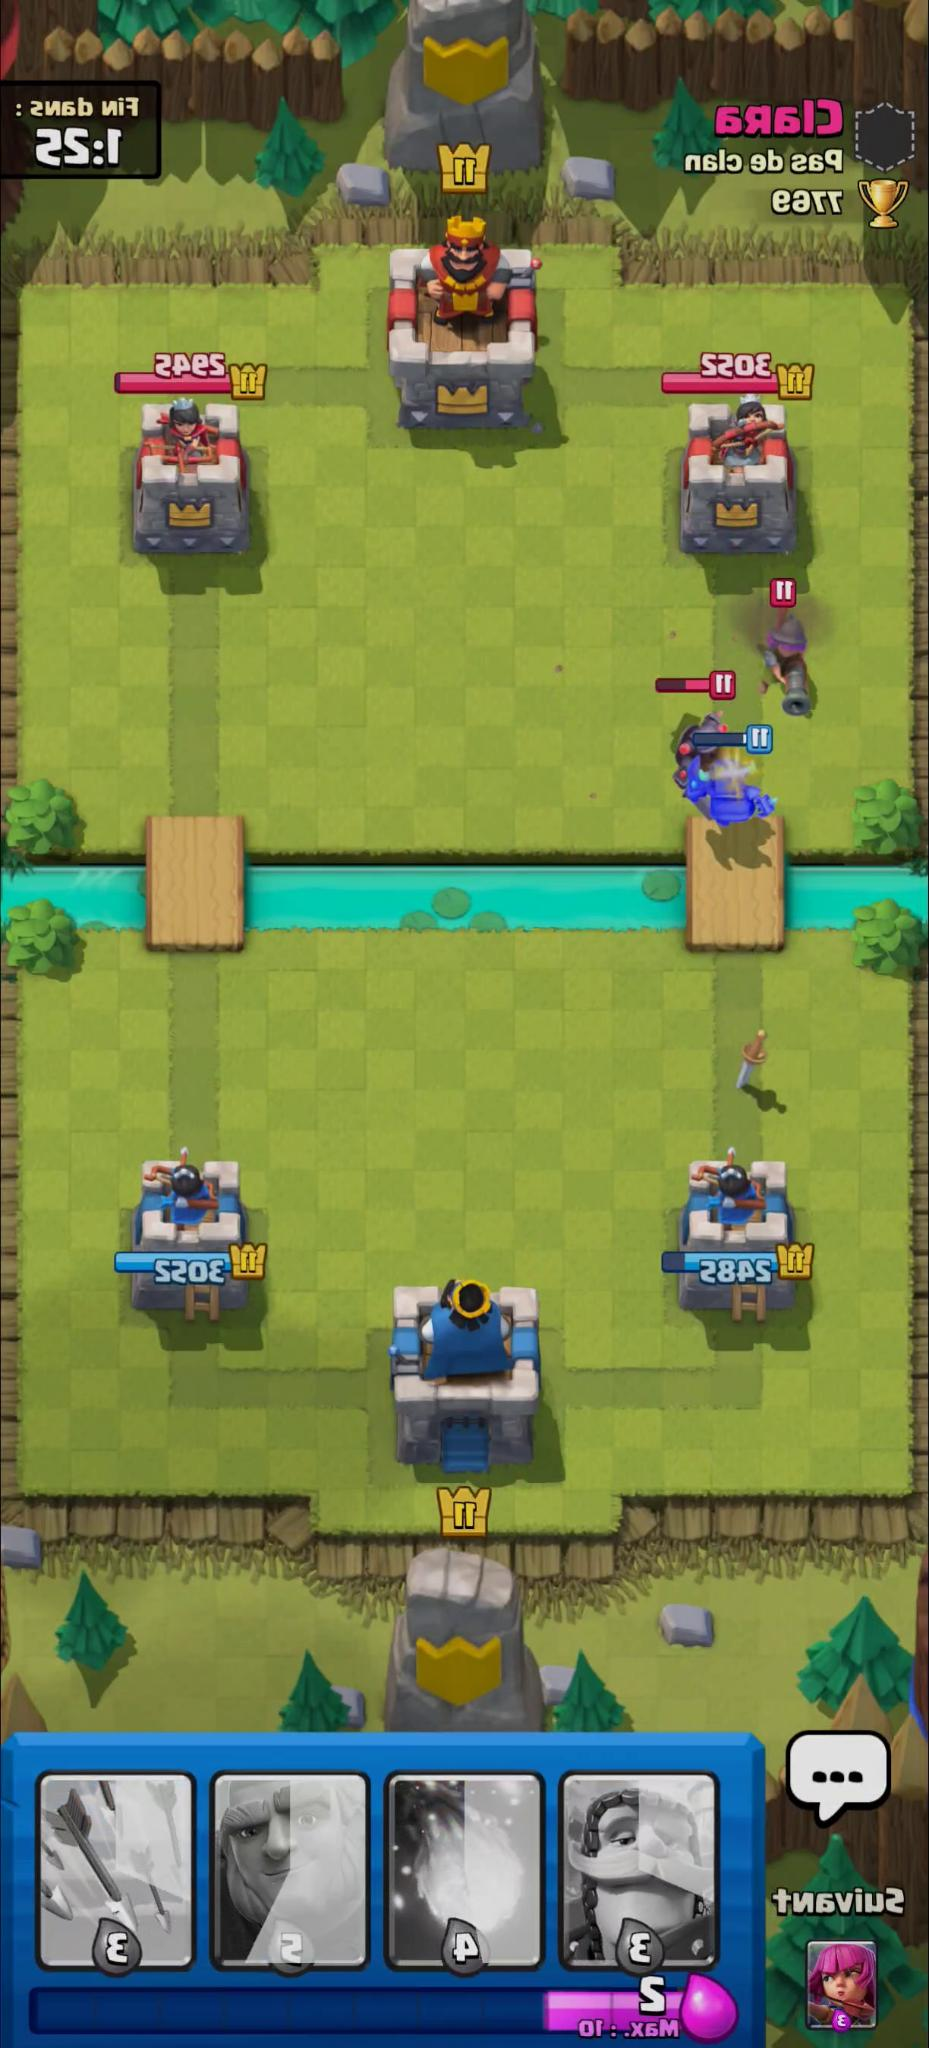mini_PEKKA: (683, 751, 776, 832), (664, 707, 733, 786)
mousquetaire: (751, 598, 814, 724)
